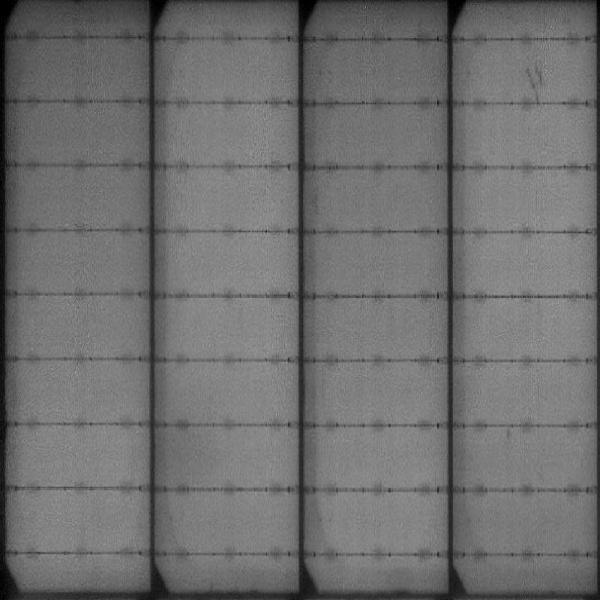scratch: (524, 66, 547, 101)
